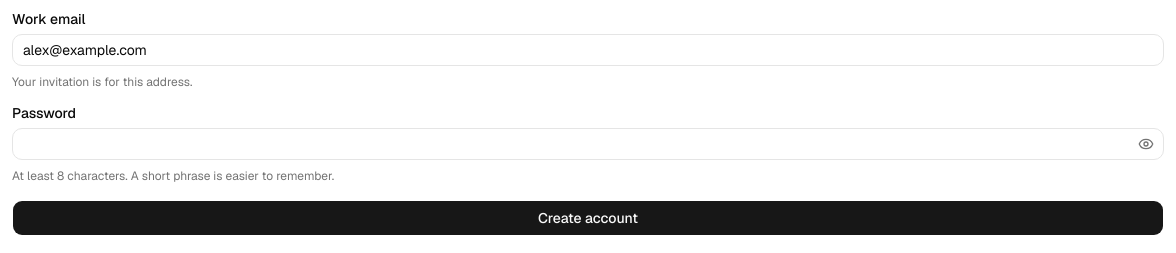
Test case: SignupForm from an invitation › fixes the email to the invited address and carries the invitation
Expected: the field labelled "Work email" holds "alex@example.com", [12,34,1164,66]
Expected: the text "Your invitation is for this address." is shown, [12,74,192,90]
Type "correct horse" into the password field labelled "Password" at (588, 144), box [12,128,1164,160]
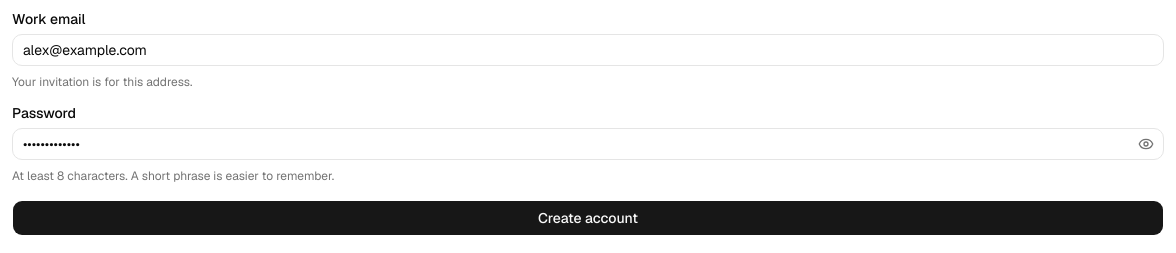
Click the button "Create account" at (588, 218), box [12,200,1164,236]
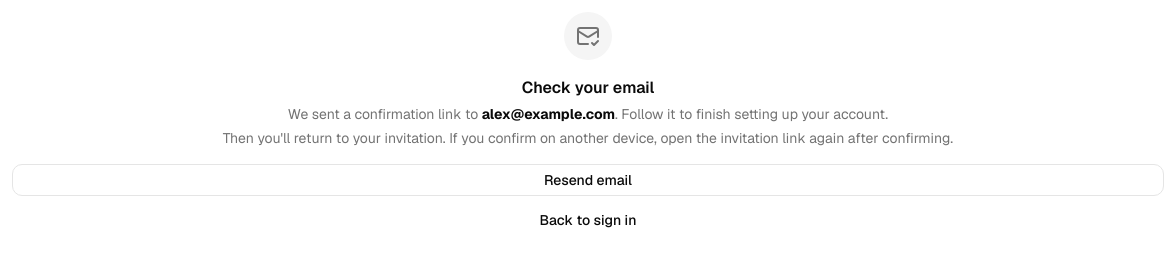
Result: the text "return to your invitation" is shown at [223,129,953,147]
Result: the text "alex@example.com" is shown at [482,105,615,123]
